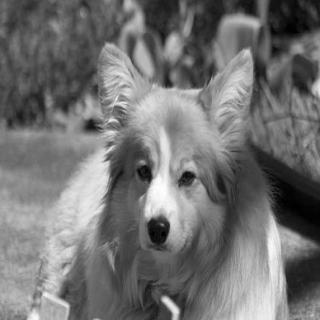dog: (90, 30, 268, 273)
nose: (144, 214, 173, 248)
